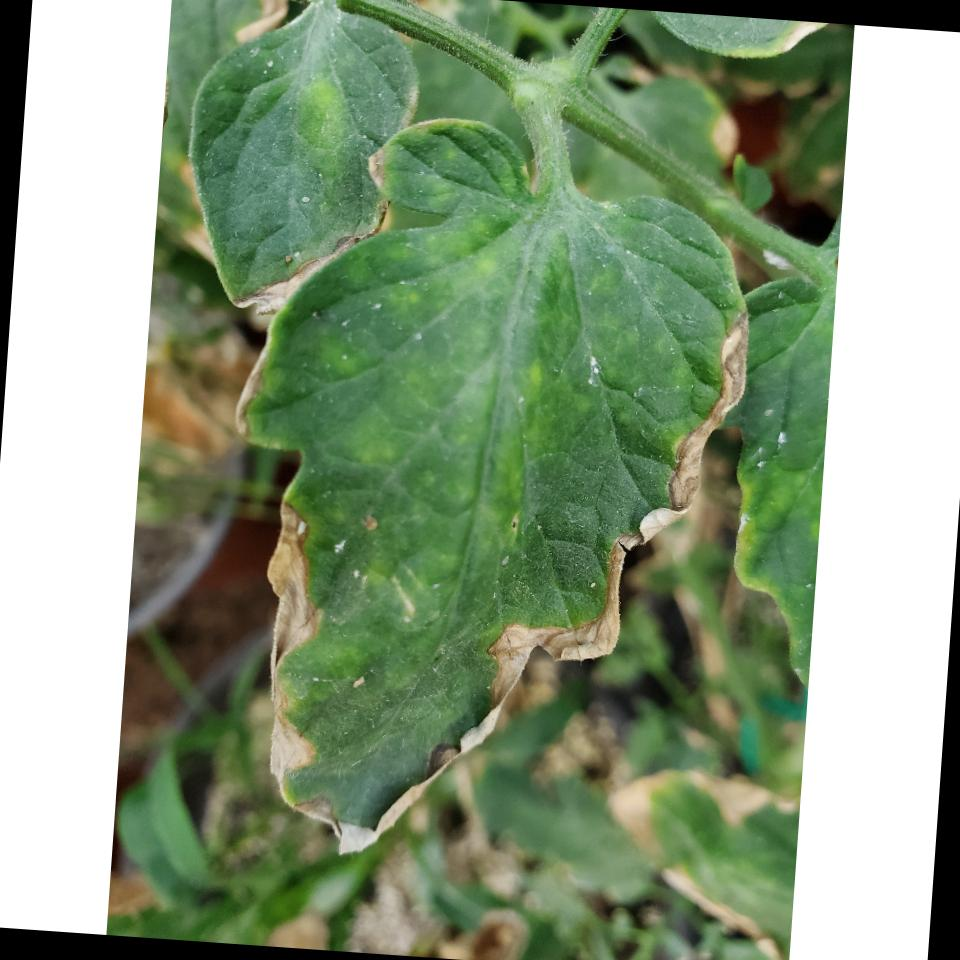tomato_bacterial_blight: (207, 126, 762, 872)
